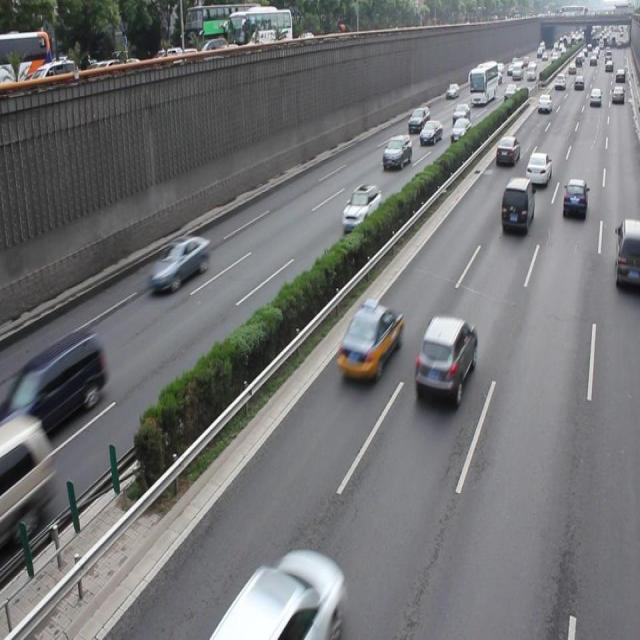car: (216, 548, 344, 640), (412, 314, 476, 405), (335, 302, 400, 381), (146, 233, 209, 294), (612, 218, 640, 290), (341, 183, 381, 231), (560, 177, 586, 221), (382, 132, 412, 170), (524, 151, 550, 187)
truck: (0, 329, 106, 440), (499, 176, 533, 233)
